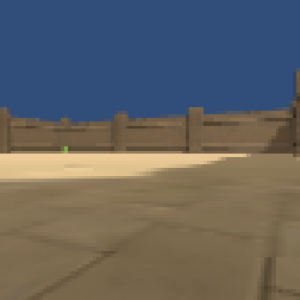goodGoal: (60, 144, 70, 154)
